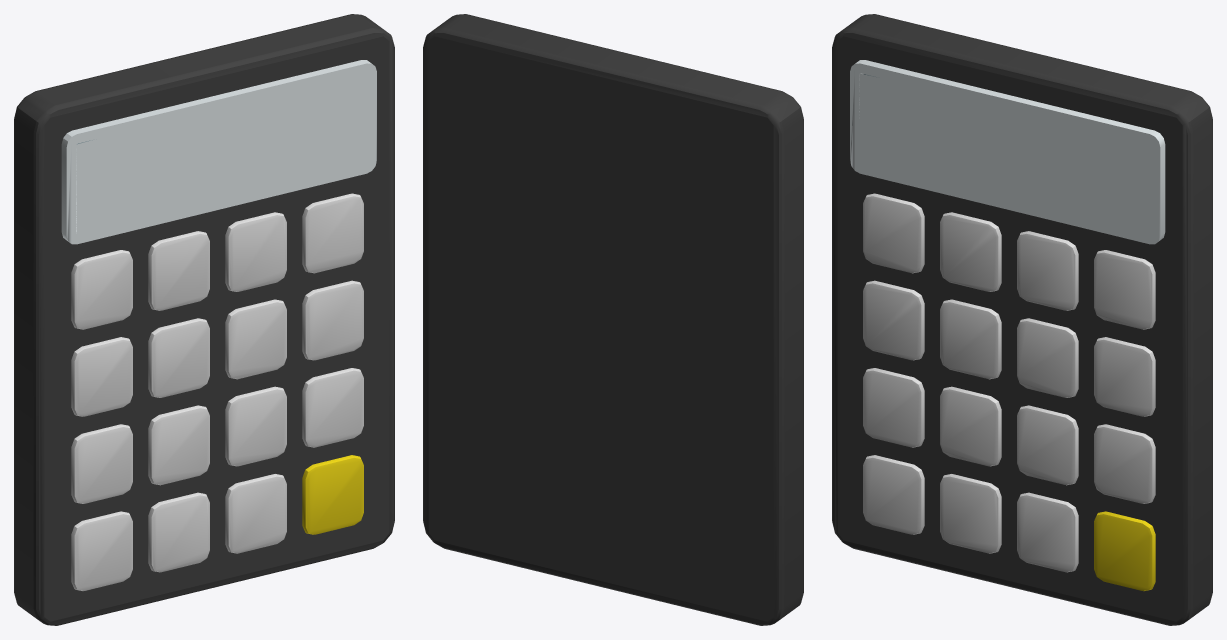
File: SM_Env_DeskCalculator.fbx
The picture shows the model from 3 angles, left to right: view 1: azimuth 30°, elevation 25°; view 2: azimuth 150°, elevation 25°; view 3: azimuth 330°, elevation 25°; orthographic projection.
Visible parts, largest first — view 1: Calculator; view 2: Calculator; view 3: Calculator.
Part boxes in pixels (<box>): Calculator: <box>14,14,394,625</box>; Calculator: <box>423,14,803,625</box>; Calculator: <box>832,14,1212,625</box>.
Size of the model in its own units: 0.14 by 0.1931 by 0.02.
